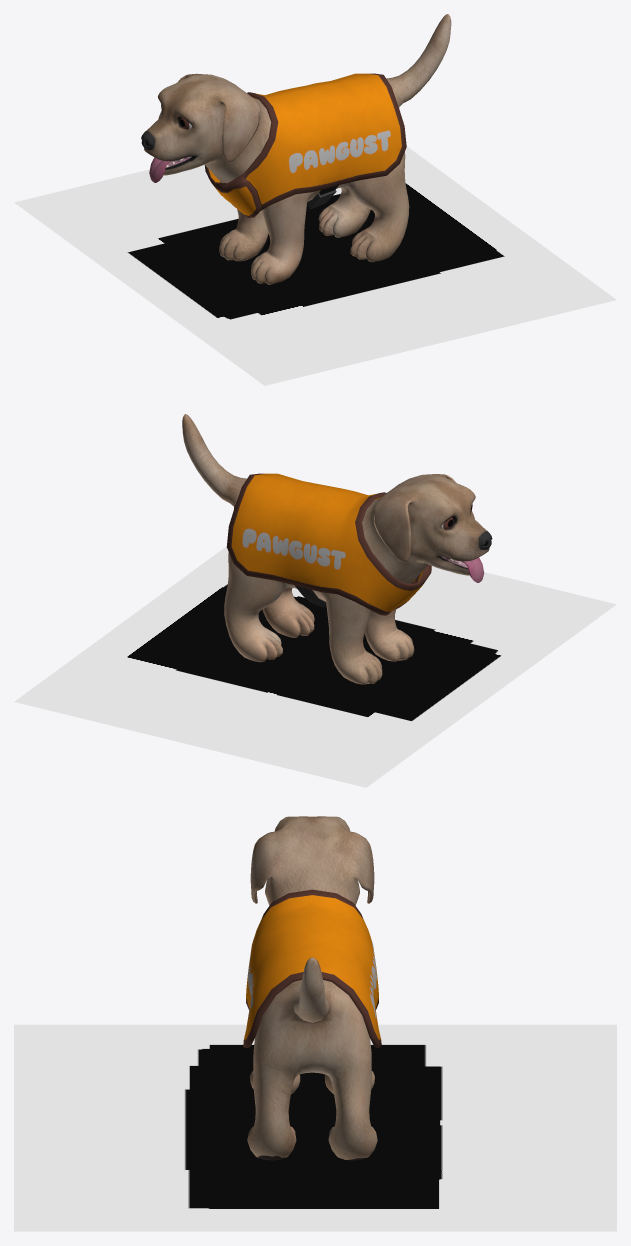
Rendered from Puppy.fbx.
3 renders of one model, top to bottom at view 1: azimuth 30°, elevation 25°; view 2: azimuth 150°, elevation 25°; view 3: azimuth 270°, elevation 25°, orthographic. The views are drawn at different scales.
Parts seen in each view (by area): view 1: Puppy_Shadow, Puppy_Body, Puppy_Vest; view 2: Puppy_Shadow, Puppy_Body, Puppy_Vest; view 3: Puppy_Shadow, Puppy_Body, Puppy_Vest.
Part boxes in pixels (<box>): Puppy_Shadow: <box>14,146,616,385</box>; Puppy_Body: <box>141,14,451,284</box>; Puppy_Vest: <box>204,73,406,217</box>; Puppy_Shadow: <box>14,546,616,787</box>; Puppy_Body: <box>182,414,492,684</box>; Puppy_Vest: <box>226,473,431,615</box>; Puppy_Shadow: <box>14,1024,616,1231</box>; Puppy_Body: <box>247,816,377,1160</box>; Puppy_Vest: <box>243,889,381,1047</box>.
Bounding box in the file's own units: 5.38 × 3.07 × 6.63.
3 materials, 3 textured.
